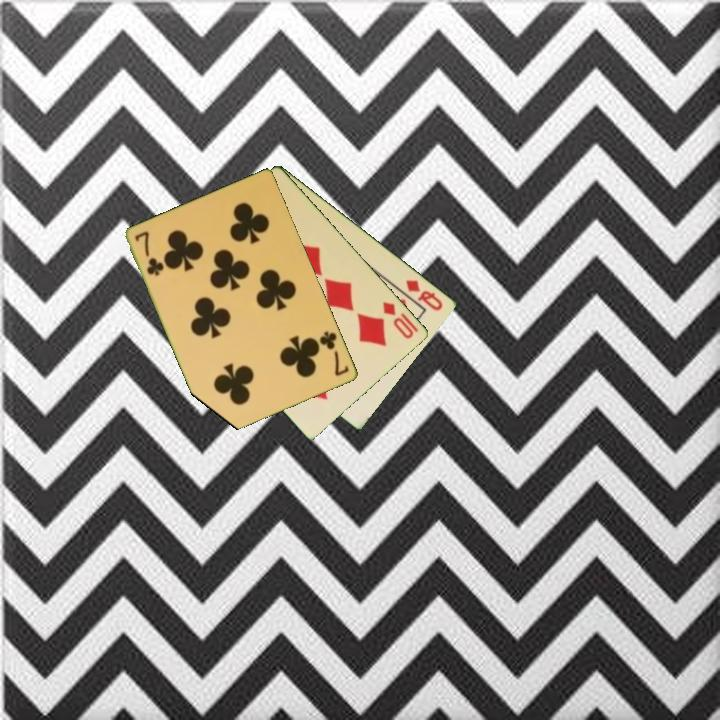10d: (379, 298, 417, 342)
7c: (316, 327, 352, 379), (131, 228, 167, 279)
Qd: (402, 276, 446, 314)
